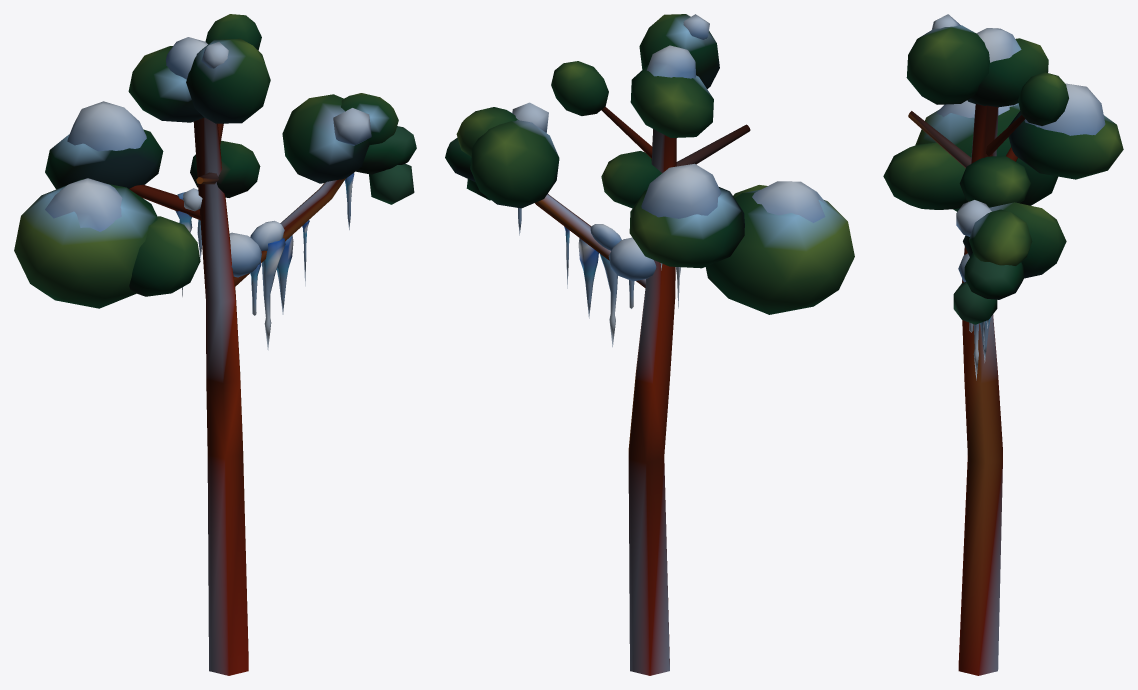
File: Pine_03.fbx
3 views of the same model, side by side, from view 1: azimuth 30°, elevation 25°; view 2: azimuth 150°, elevation 25°; view 3: azimuth 270°, elevation 25° (orthographic).
Parts seen in each view (by area): view 1: Pine_03; view 2: Pine_03; view 3: Pine_03.
Part boxes in pixels (box(x1,y1,x2,y2)): Pine_03: box(14, 14, 416, 675); Pine_03: box(445, 14, 854, 675); Pine_03: box(883, 14, 1123, 675).
Size of the model in its own units: 4853 by 7592 by 2605.
